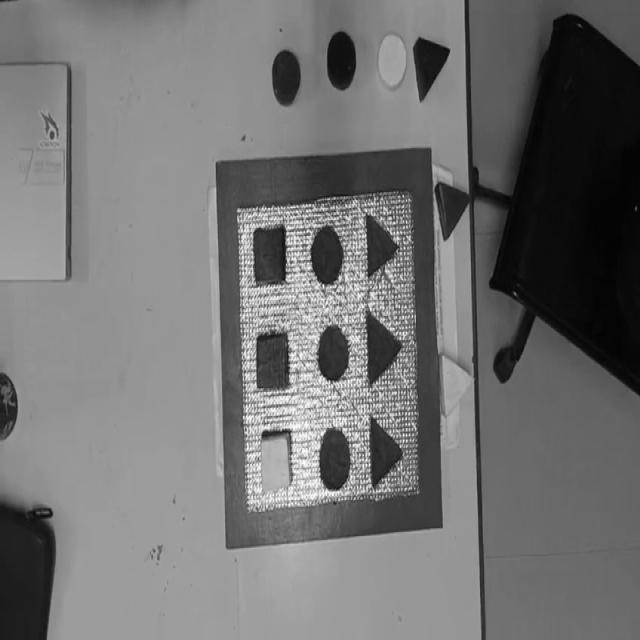bcircle: (326, 30, 357, 92)
bcube: (253, 226, 286, 286)
btriangle: (412, 35, 450, 103)
mtcircle: (310, 225, 344, 286), (319, 427, 351, 491), (317, 324, 350, 383)
mttriangle: (365, 308, 403, 388), (368, 413, 404, 490), (363, 213, 398, 280)
rcircle: (271, 49, 301, 106)
rcube: (256, 332, 288, 391)
rtriangle: (434, 180, 471, 242)
wb: (234, 188, 422, 516)
ycircle: (376, 31, 408, 91)
ycube: (259, 429, 293, 494)
ytriangle: (438, 352, 474, 418)
